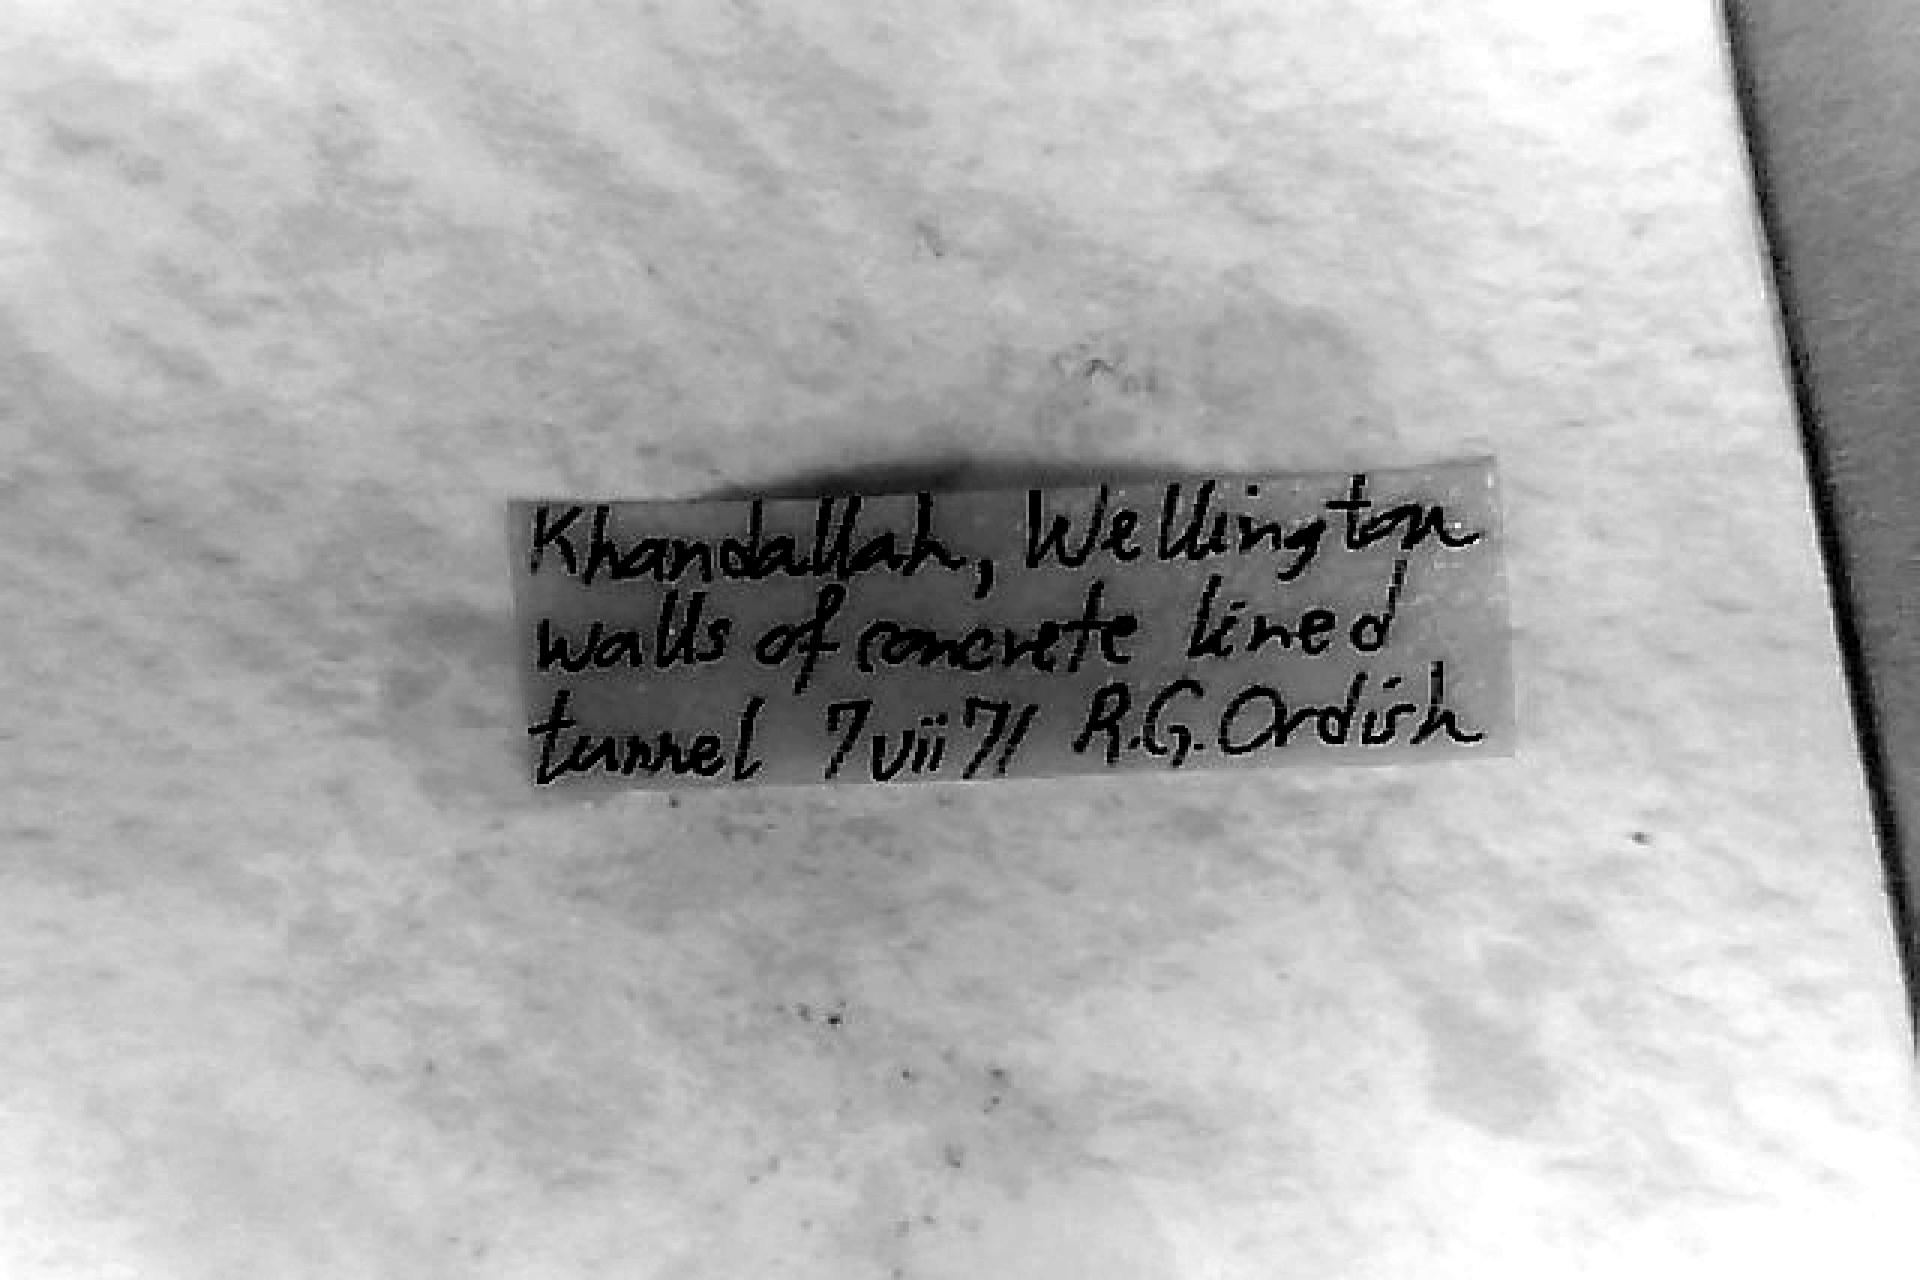hand_label: (518, 463, 1509, 783)
